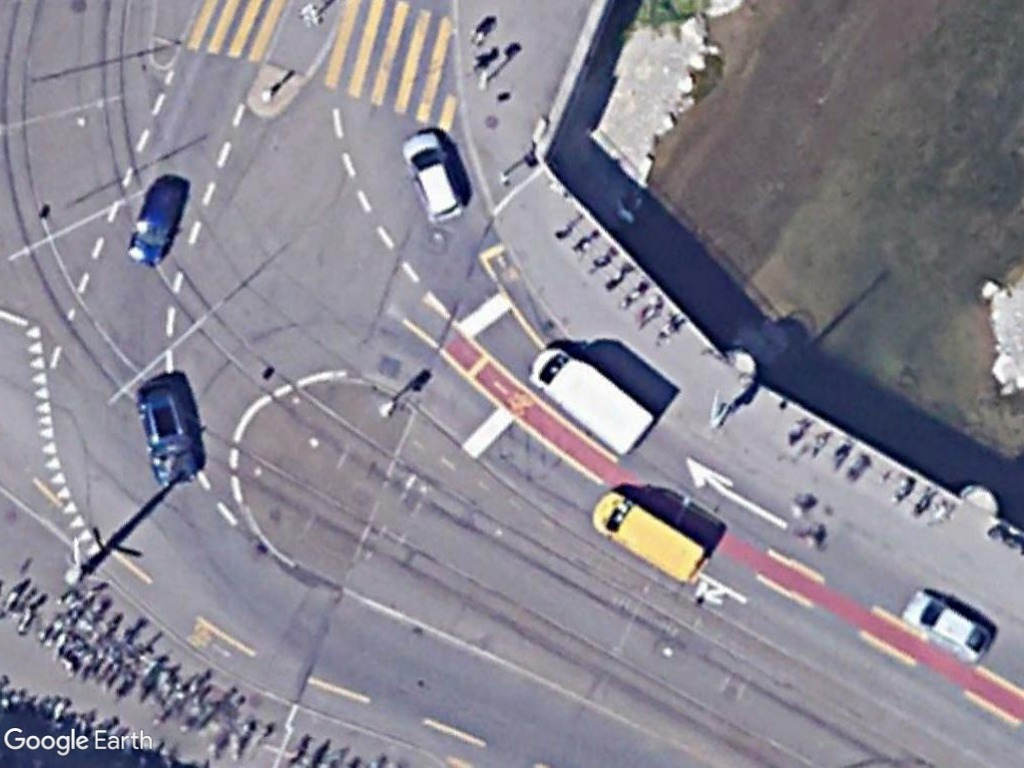car: (133, 378, 202, 491), (898, 585, 994, 666), (400, 129, 468, 229), (124, 175, 186, 267)
van: (522, 341, 658, 457), (586, 488, 709, 586)
